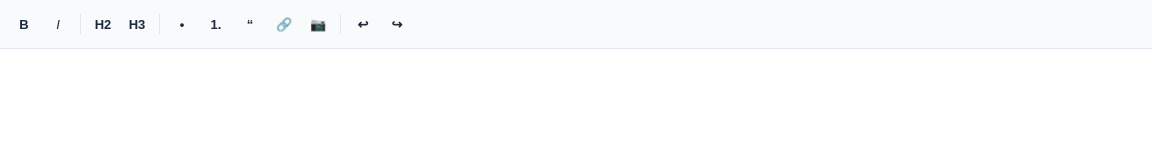
EditorToolbar — image › adresse refusée : l’écran le dit
The image size is (1152, 160).
Click the button with test id "toolbar-image".
click(318, 24)  # box x1=302 y1=8 x2=334 y2=40
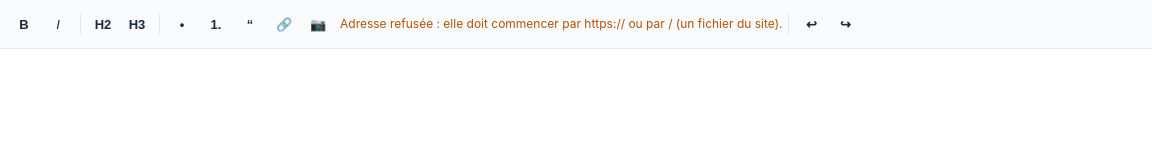
Expected: the message with test id "toolbar-image-notice" shows "Adresse", x1=340 y1=16 x2=782 y2=31
